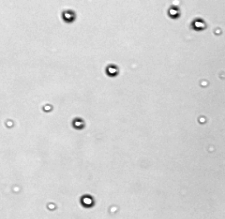Living Cell: (191, 17, 206, 31), (105, 64, 120, 77), (80, 194, 94, 207), (71, 117, 85, 129), (61, 10, 75, 22), (167, 6, 180, 18), (3, 119, 15, 129), (42, 103, 53, 113), (11, 184, 21, 194), (109, 205, 119, 215), (46, 202, 57, 211), (197, 116, 208, 125), (213, 26, 222, 35), (199, 79, 209, 87)
